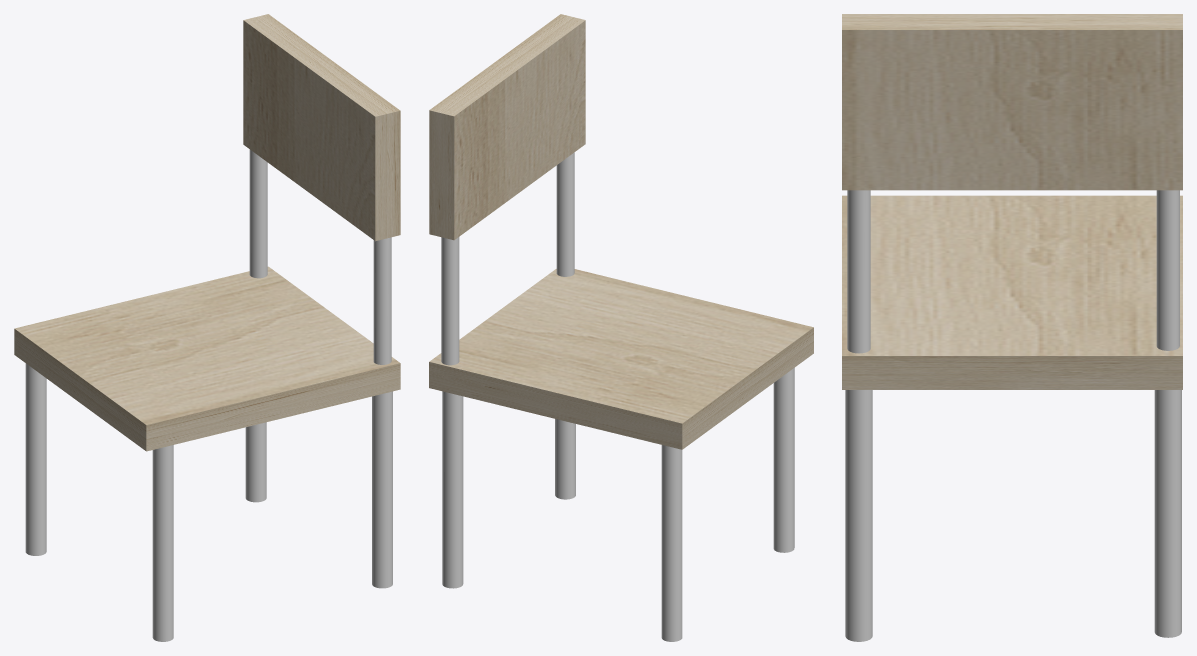
The model's file is chair_mesh.fbx.
The picture shows the model from 3 angles, left to right: view 1: azimuth 30°, elevation 25°; view 2: azimuth 150°, elevation 25°; view 3: azimuth 270°, elevation 25°; orthographic projection. The views are drawn at different scales.
Parts seen in each view (by area): view 1: polySurface184; view 2: polySurface184; view 3: polySurface184.
Boxes of the visible parts, x1,y1,x2,y2 form: polySurface184: (14,14,400,641); polySurface184: (429,14,813,641); polySurface184: (842,14,1182,641).
Bounding box in the file's own units: 3.06 × 5.46 × 2.75.
Materials: 2 (1 with a texture image).
